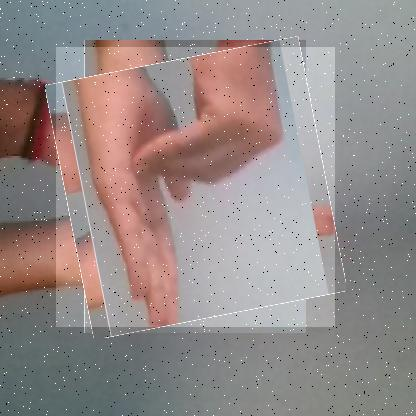Z: (56, 47, 336, 328)
